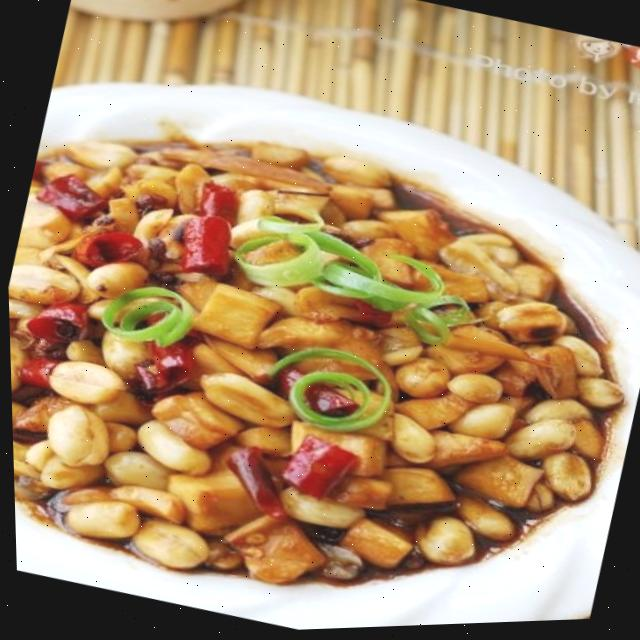鸡肉料理 含炸鸡: (1, 34, 640, 640)
